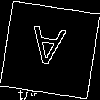A: (24, 25, 67, 76)
